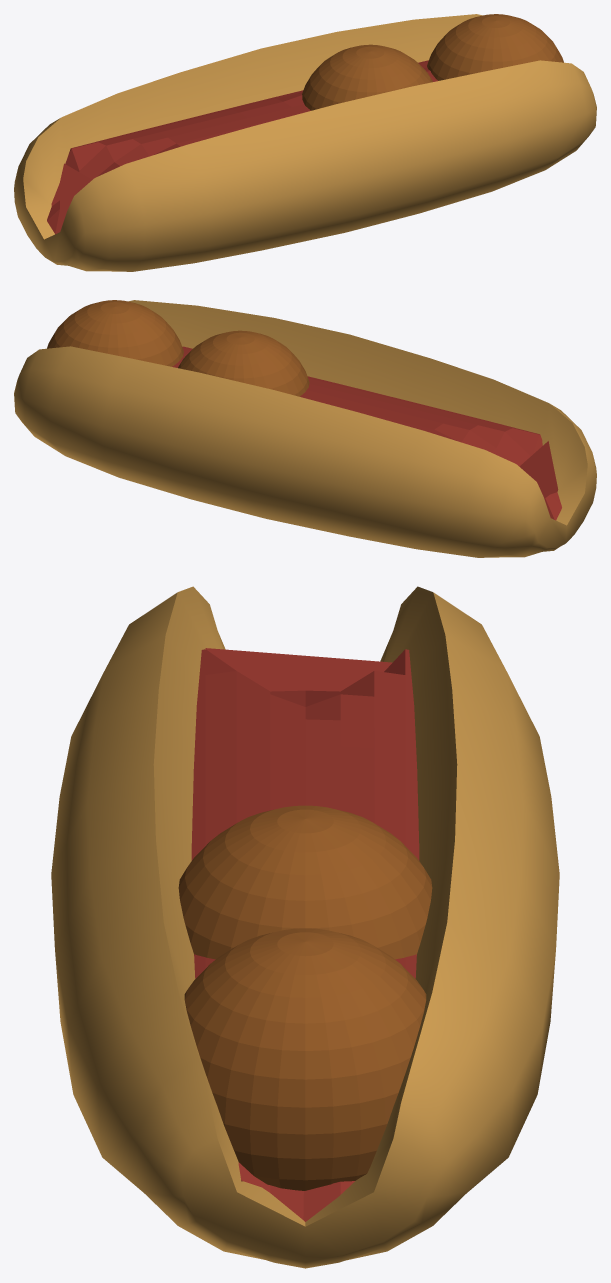
File: 2_4_bun.fbx
The picture shows the model from 3 angles, top to bottom: view 1: azimuth 30°, elevation 25°; view 2: azimuth 150°, elevation 25°; view 3: azimuth 270°, elevation 25°; orthographic projection. The views are drawn at different scales.
Visible parts, largest first — view 1: Hotdog, Cylinder, Sphere.003, Sphere; view 2: Hotdog, Cylinder, Sphere.003, Sphere; view 3: Hotdog, Sphere.003, Cylinder, Sphere.
Boxes of the visible parts, x1=… form: Hotdog: x1=14, y1=14, x2=596, y2=271; Cylinder: x1=47, y1=60, x2=438, y2=234; Sphere.003: x1=427, y1=14, x2=563, y2=80; Sphere: x1=302, y1=44, x2=432, y2=110; Hotdog: x1=14, y1=300, x2=596, y2=557; Cylinder: x1=172, y1=346, x2=561, y2=520; Sphere.003: x1=47, y1=300, x2=183, y2=366; Sphere: x1=178, y1=330, x2=309, y2=396; Hotdog: x1=51, y1=586, x2=559, y2=1268; Sphere.003: x1=184, y1=928, x2=426, y2=1190; Cylinder: x1=191, y1=648, x2=419, y2=1221; Sphere: x1=178, y1=805, x2=432, y2=959.
Size of the model in its own units: 50.47 by 14 by 21.02.
